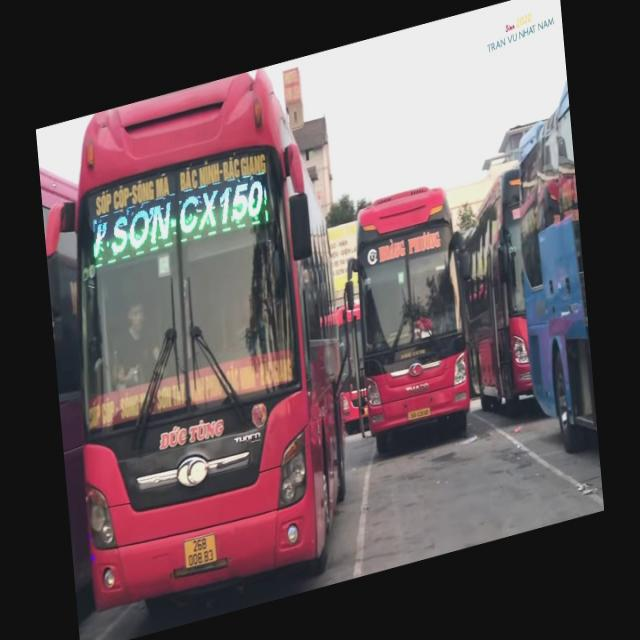bien_vang: (181, 527, 222, 571)
